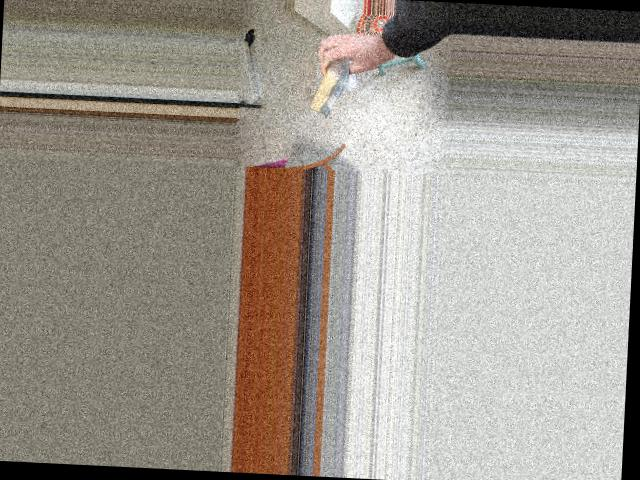cheese: (304, 43, 358, 122)
